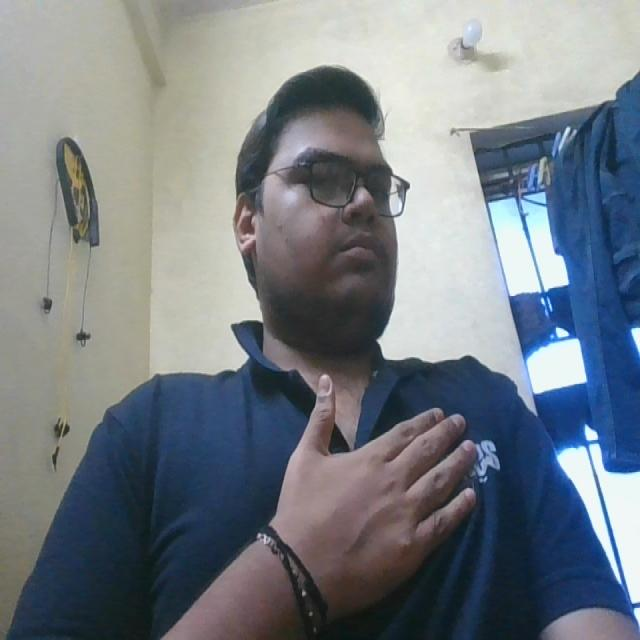Please: (262, 355, 481, 603)
